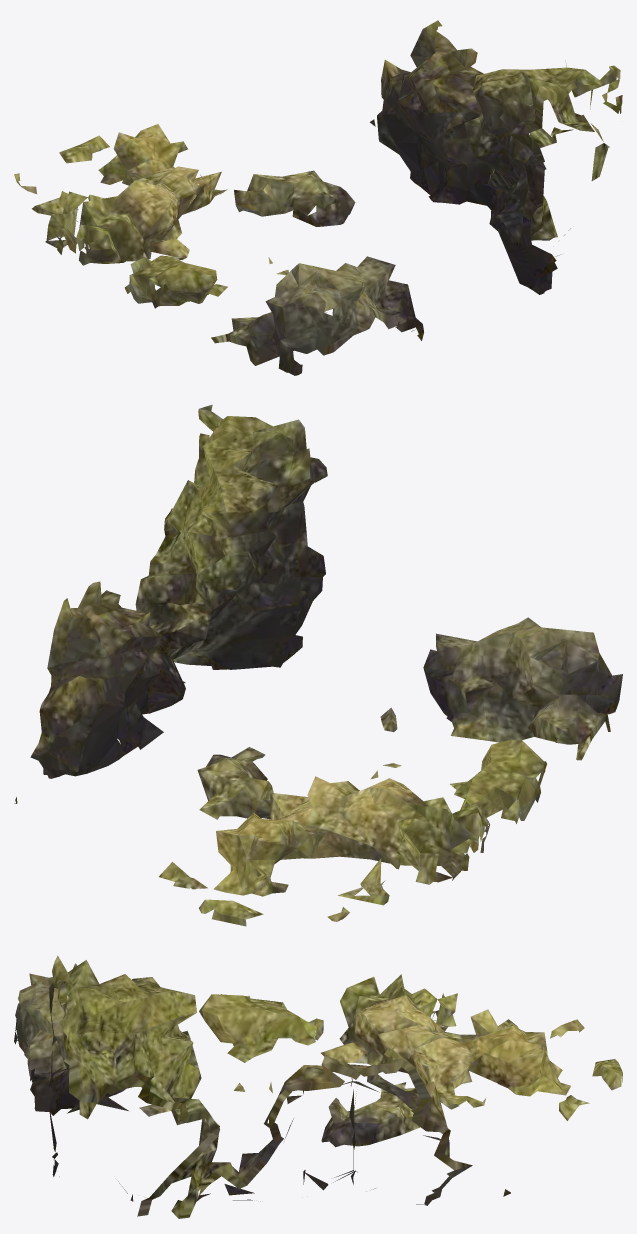
3 renders of one model, top to bottom at view 1: azimuth 30°, elevation 25°; view 2: azimuth 150°, elevation 25°; view 3: azimuth 270°, elevation 25°, orthographic. The views are drawn at different scales.
Visible parts, largest first — view 1: Mesh_0; view 2: Mesh_0; view 3: Mesh_0.
Part boxes in pixels (left/top/right/bottom): Mesh_0: left=14, top=20, right=622, bottom=375; Mesh_0: left=14, top=404, right=622, bottom=926; Mesh_0: left=14, top=955, right=622, bottom=1218.
Size of the model in its own units: 32.05 by 16.39 by 39.29.
Materials: 1 (1 with a texture image).
